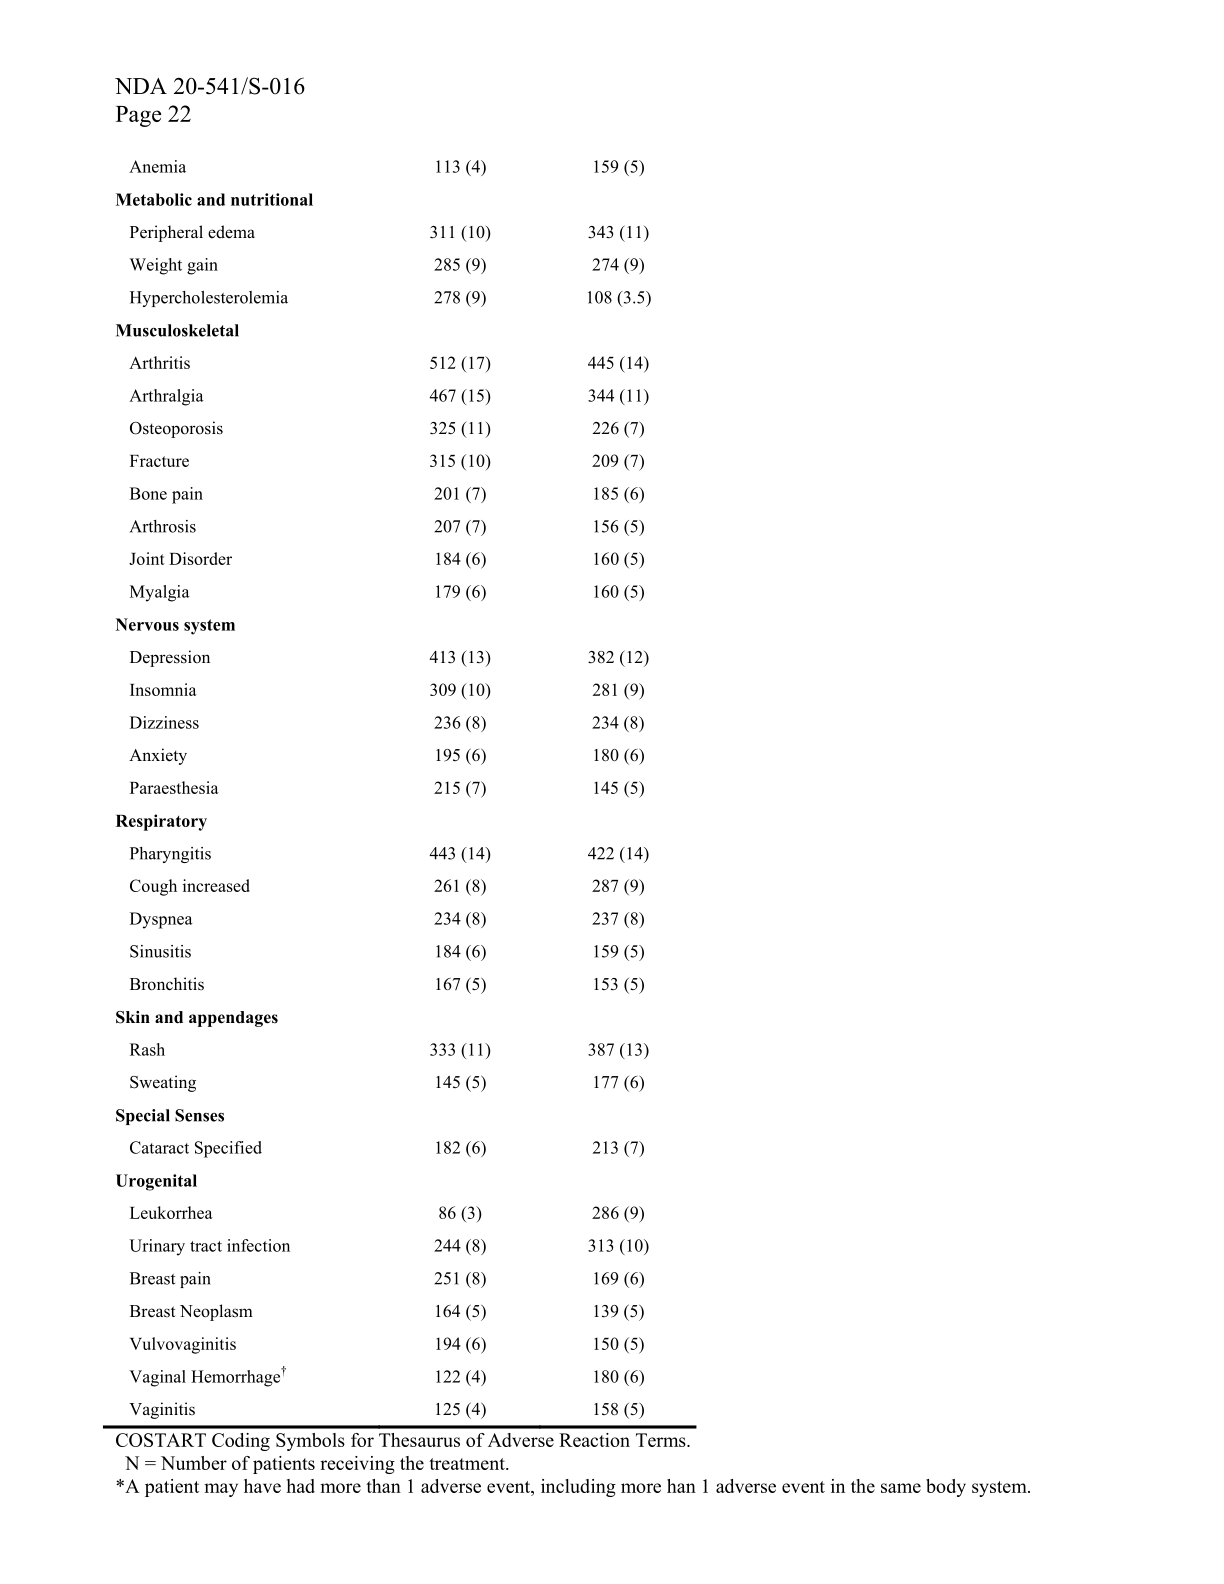nolines: (108, 152, 654, 1421)
